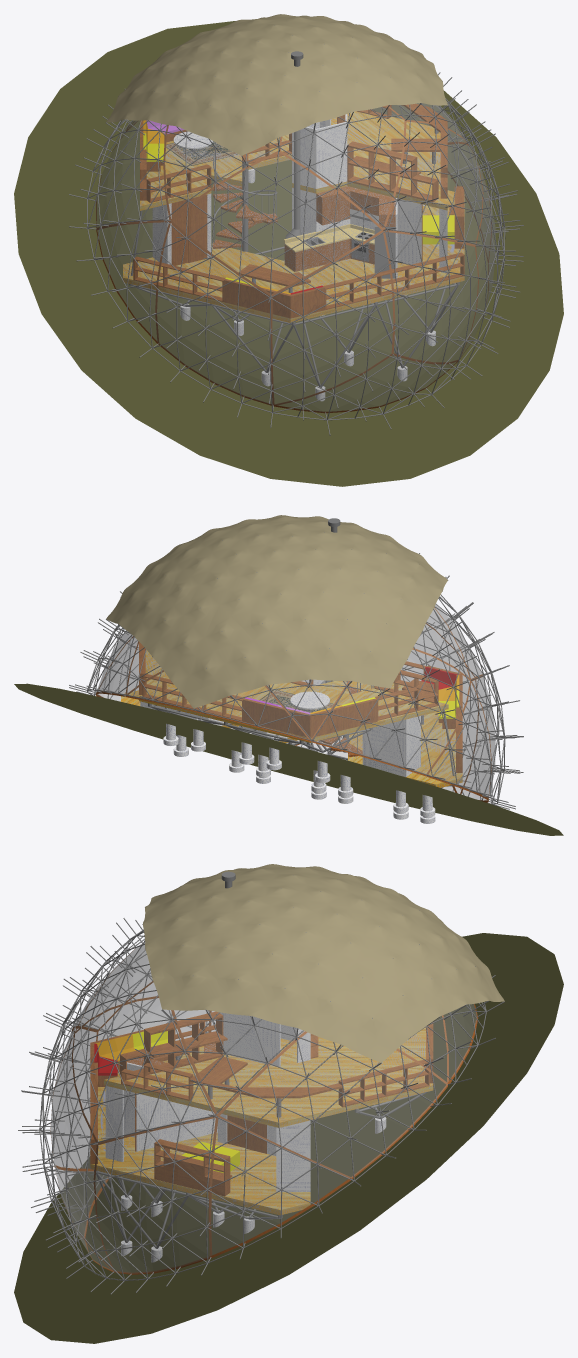
3 views of the same model, one above another, from view 1: azimuth 30°, elevation 25°; view 2: azimuth 150°, elevation 25°; view 3: azimuth 270°, elevation 25° (orthographic). The views are drawn at different scales.
Visible parts, largest first — view 1: Ground_plane, _8v_clear_shell, Shade, Deck_-_lower, Deck_-_upper, Cabinets (×2), Upper_closet, Bathroom, Lower_couch, Door_9 (×2), Entry_closet, Counter (+9 smaller); view 2: Shade, _8v_clear_shell, Ground_plane, Deck_-_upper, Upper_couch, Deck_-_lower, Entry_closet, group_0, Rib_3, group_1, Support; view 3: _8v_clear_shell, Ground_plane, Shade, Deck_-_upper, Deck_-_lower, Bathroom (×2), Upper_closet, Bed_headrest_shelves, Bedroom_closet, Desk_1, Shelf_desk, Desk_2.
Part boxes in pixels (x1,y1,x2,y2): Ground_plane: (14, 21, 563, 486); _8v_clear_shell: (96, 103, 495, 412); Shade: (106, 14, 447, 155); Deck_-_lower: (123, 190, 464, 322); Deck_-_upper: (140, 111, 447, 210); Cabinets (×2): (284, 186, 395, 271); Upper_closet: (292, 114, 347, 188); Bathroom: (292, 188, 421, 264); Lower_couch: (223, 279, 325, 318); Door_9 (×2): (171, 195, 207, 265); Entry_closet: (152, 194, 211, 264); Counter: (283, 224, 374, 252); Shade: (106, 515, 447, 708); _8v_clear_shell: (96, 603, 495, 800); Ground_plane: (14, 683, 563, 835); Deck_-_upper: (139, 650, 448, 742); Upper_couch: (243, 698, 377, 737); Deck_-_lower: (121, 681, 462, 787); Entry_closet: (362, 716, 420, 777); group_0: (290, 691, 329, 709); Rib_3: (125, 695, 311, 741); group_1: (260, 690, 339, 711); Support: (150, 705, 299, 743); _8v_clear_shell: (50, 942, 476, 1273); Ground_plane: (14, 933, 563, 1343); Shade: (143, 864, 504, 1062); Deck_-_upper: (104, 1027, 433, 1127); Deck_-_lower: (90, 1046, 310, 1214); Bathroom (×2): (105, 1086, 217, 1161); Upper_closet: (220, 1012, 310, 1066); Bed_headrest_shelves: (154, 1139, 231, 1196); Bedroom_closet: (217, 1113, 310, 1191); Desk_1: (216, 1083, 342, 1098); Shelf_desk: (120, 1031, 227, 1059); Desk_2: (189, 1056, 247, 1087).
Size of the model in its own units: 840 by 715 by 584.
17 materials, 4 textured.
